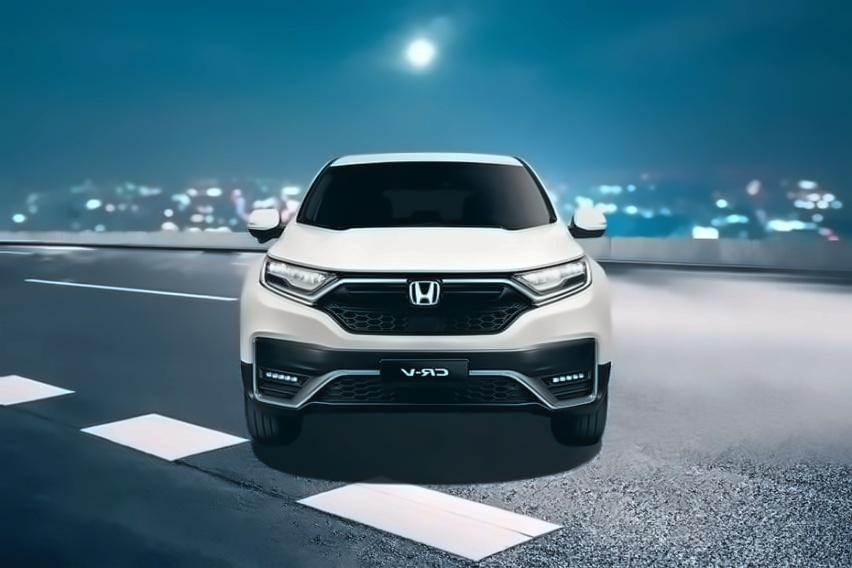Car hood: (265, 221, 588, 277)
Front bumper: (235, 294, 619, 423)
Headlight - -L-: (506, 250, 597, 313)
Headlight - -R-: (255, 249, 348, 309)
Side mirror - -L-: (559, 202, 615, 244)
Side mirror - -R-: (242, 204, 288, 247)
